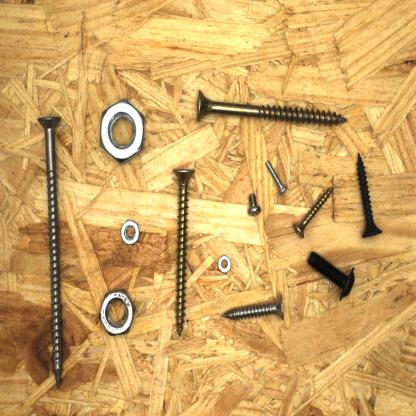screw: (35, 112, 67, 396), (194, 87, 350, 129), (168, 163, 198, 341), (305, 247, 360, 303), (353, 149, 385, 241), (218, 287, 289, 325), (290, 184, 336, 242), (262, 156, 290, 198), (245, 189, 264, 222)
